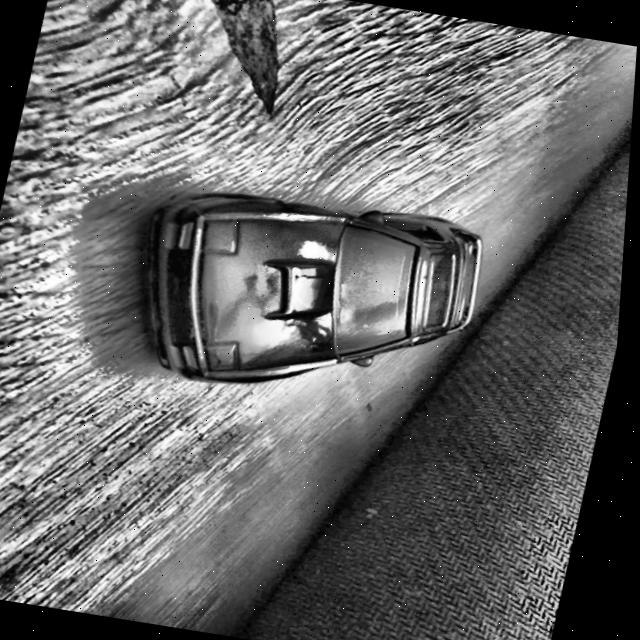car: (118, 173, 500, 422)
